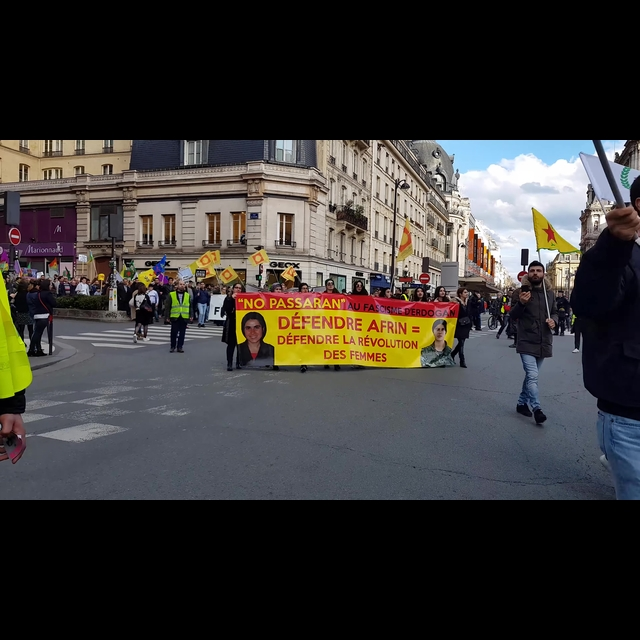YPG: (530, 205, 579, 255)
